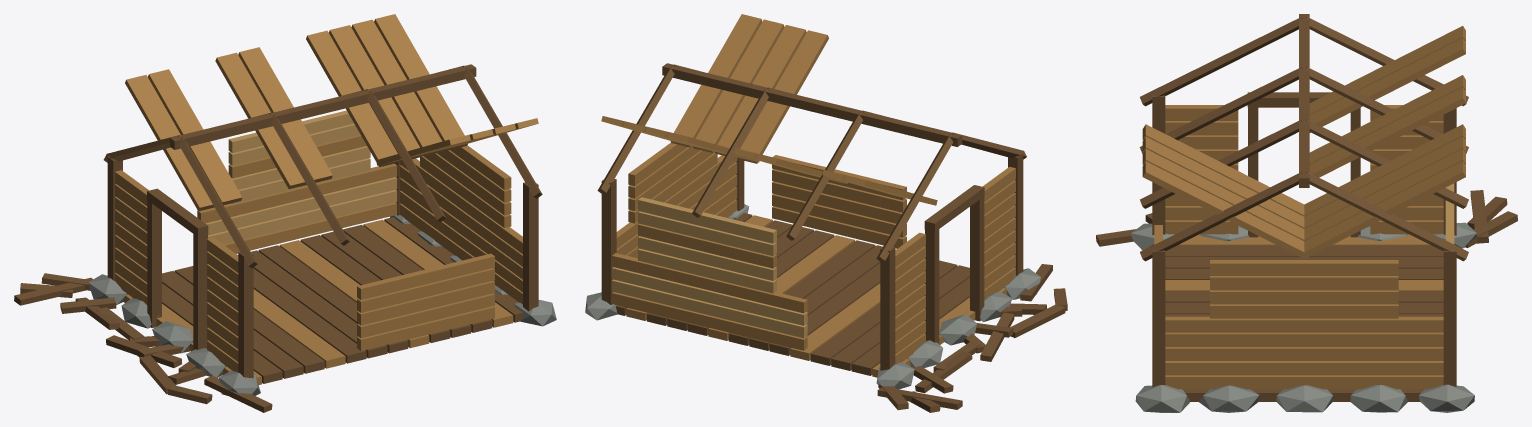
File: SM_CabinRuin.fbx
3 views of the same model, side by side, from view 1: azimuth 30°, elevation 25°; view 2: azimuth 150°, elevation 25°; view 3: azimuth 270°, elevation 25° (orthographic). The views are drawn at different scales.
Parts seen in each view (by area): view 1: SM_CabinRuin; view 2: SM_CabinRuin; view 3: SM_CabinRuin.
Boxes of the visible parts, x1,y1,x2,y2 form: SM_CabinRuin: (14,14,556,412); SM_CabinRuin: (585,14,1067,412); SM_CabinRuin: (1096,14,1517,412).
Size of the model in its own units: 9.43 by 7.82 by 4.87.
